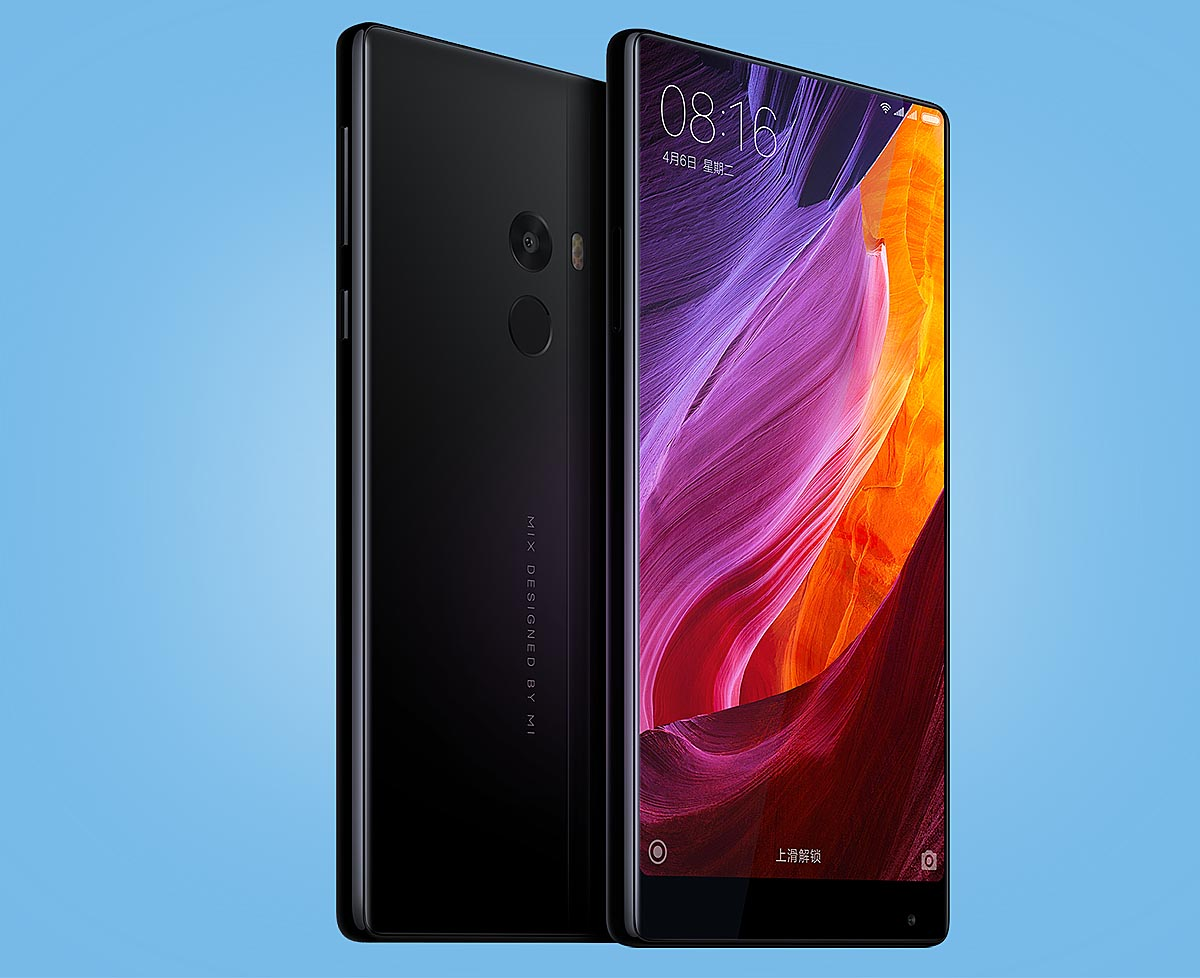smartphone: (604, 27, 951, 947), (335, 20, 607, 944)
